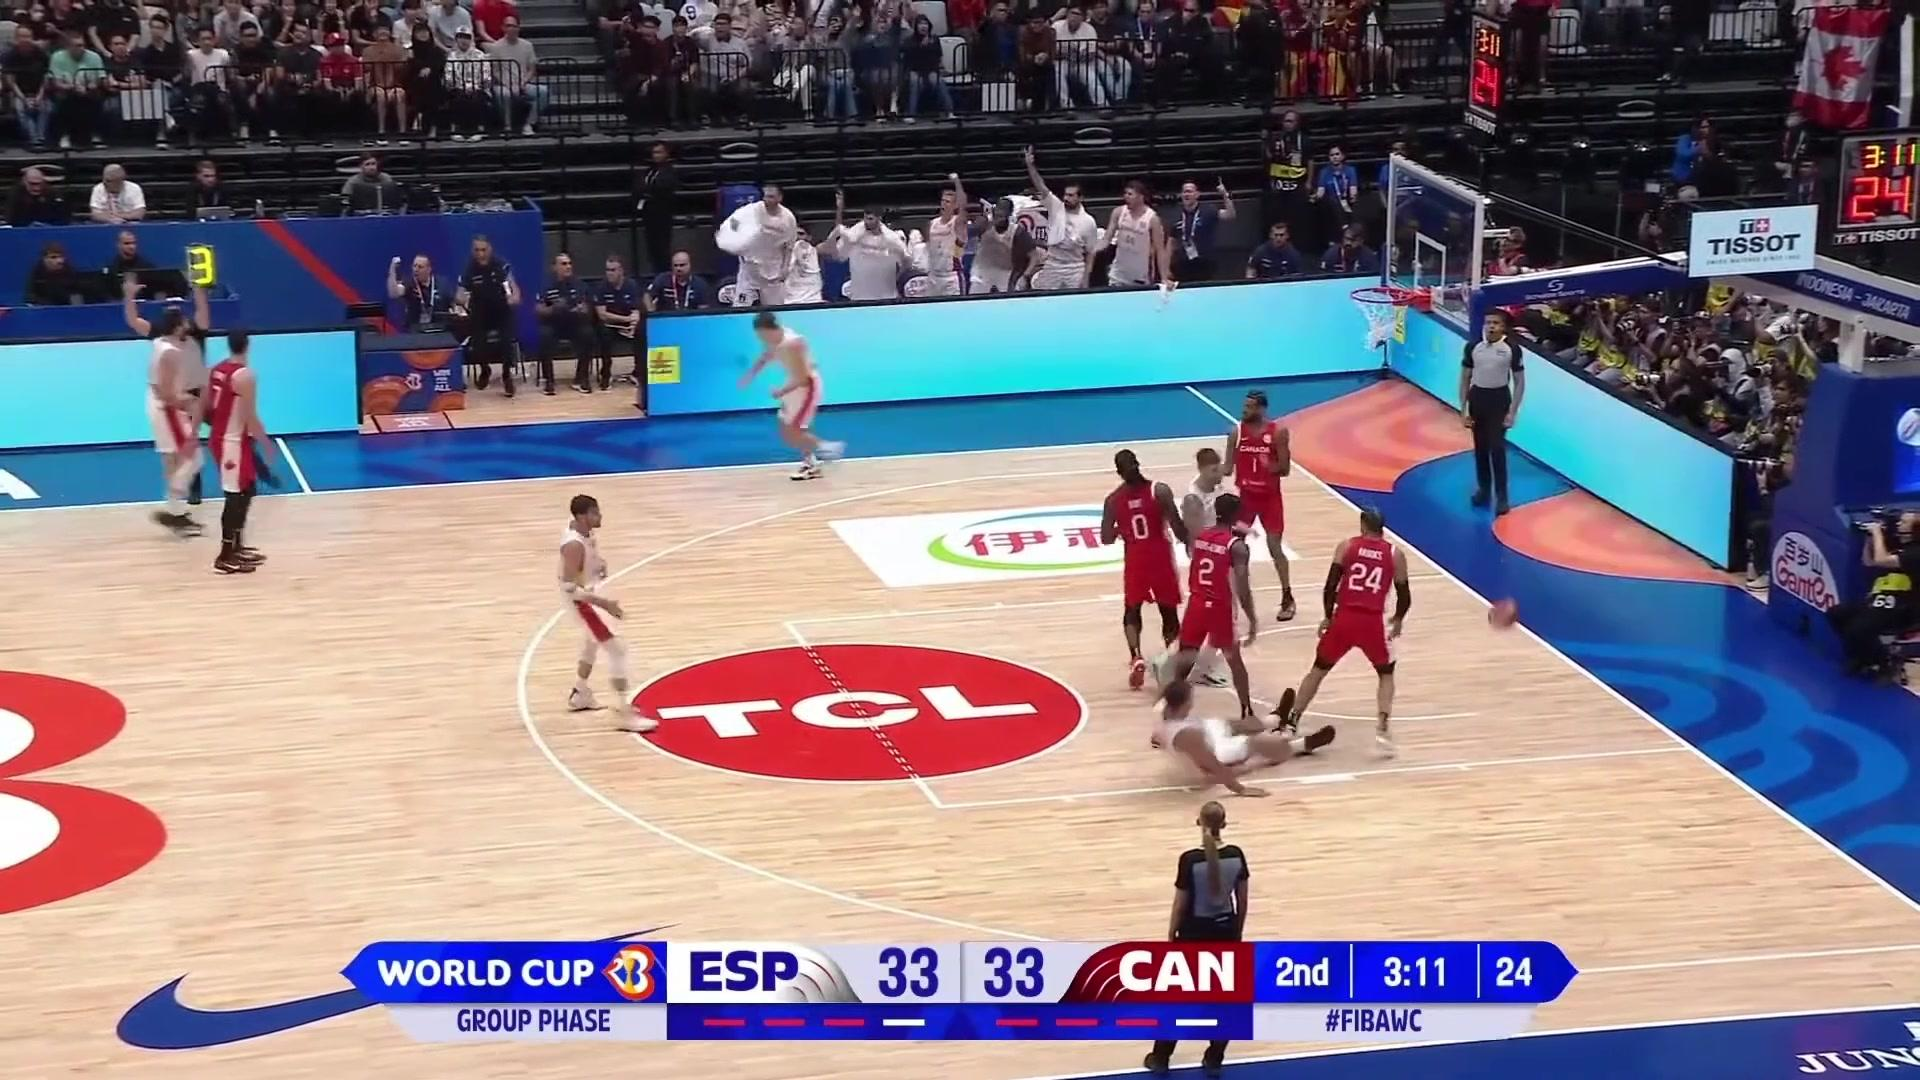foul: (1142, 509, 1429, 778)
